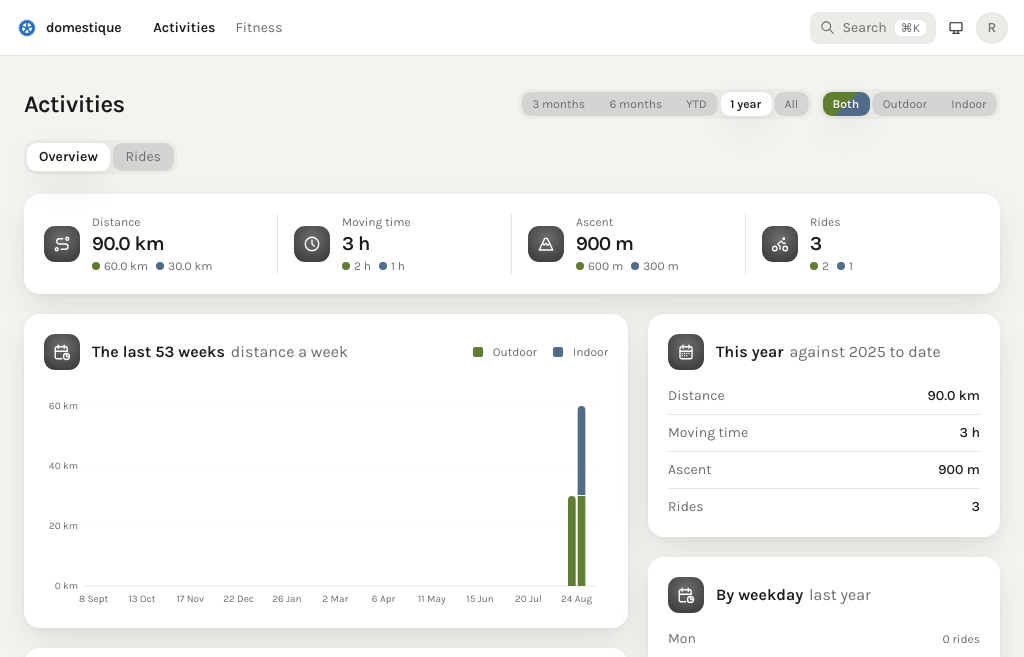
it: the activities page › keeps one range and ground across the overview and the rides
The width and height of the screenshot is (1024, 657).
Click the button "Outdoor".
click(905, 104)  # box [872,92,938,116]
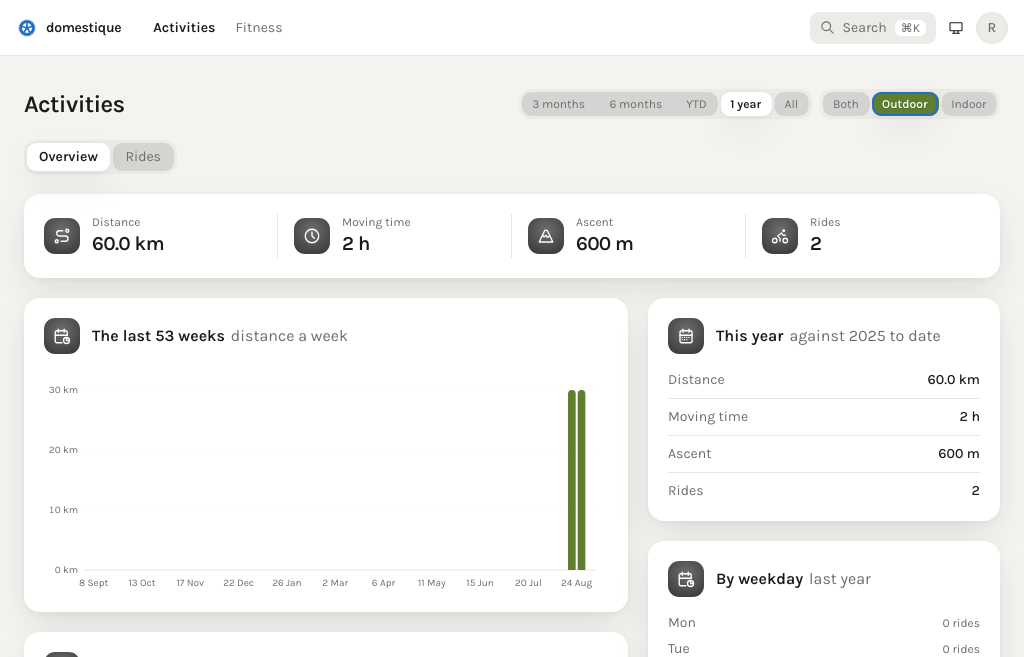
Click the button "Rides".
click(143, 157)  # box [113,143,174,171]
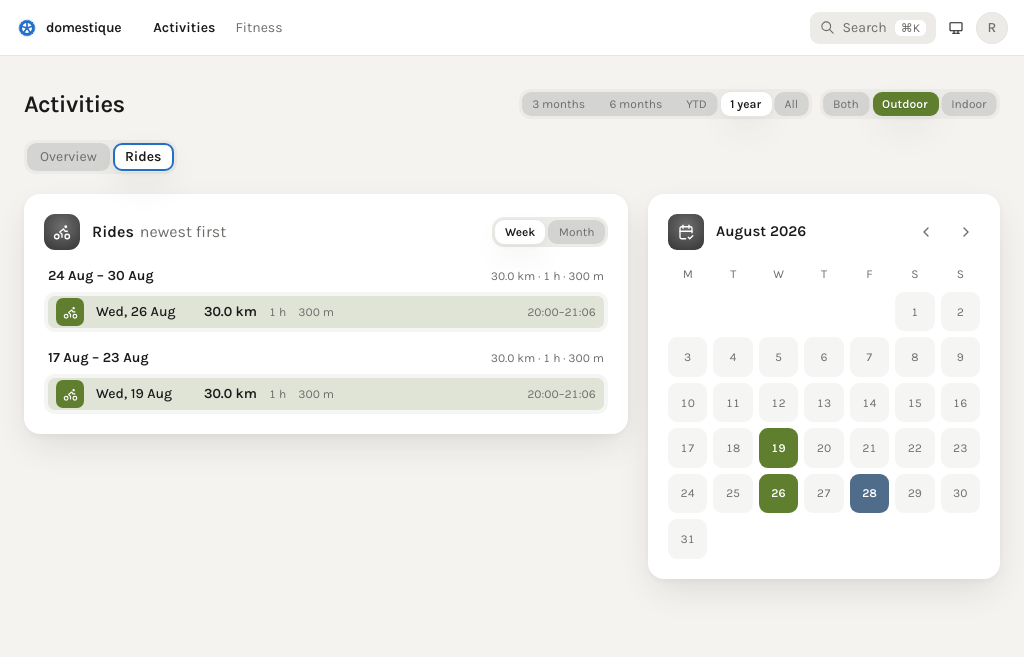
Expected: the text "Distance" is gone
Click the button "Overview".
click(68, 157)  # box [27,143,110,171]
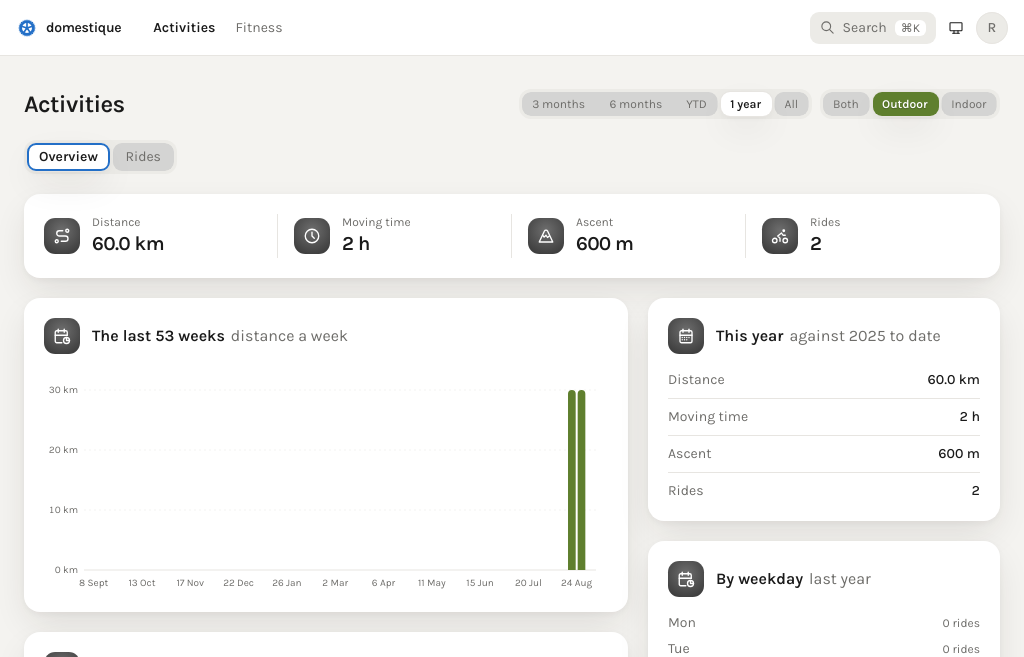
Expected: the element "Distance" shows "60.0 km", [92,232,164,255]
